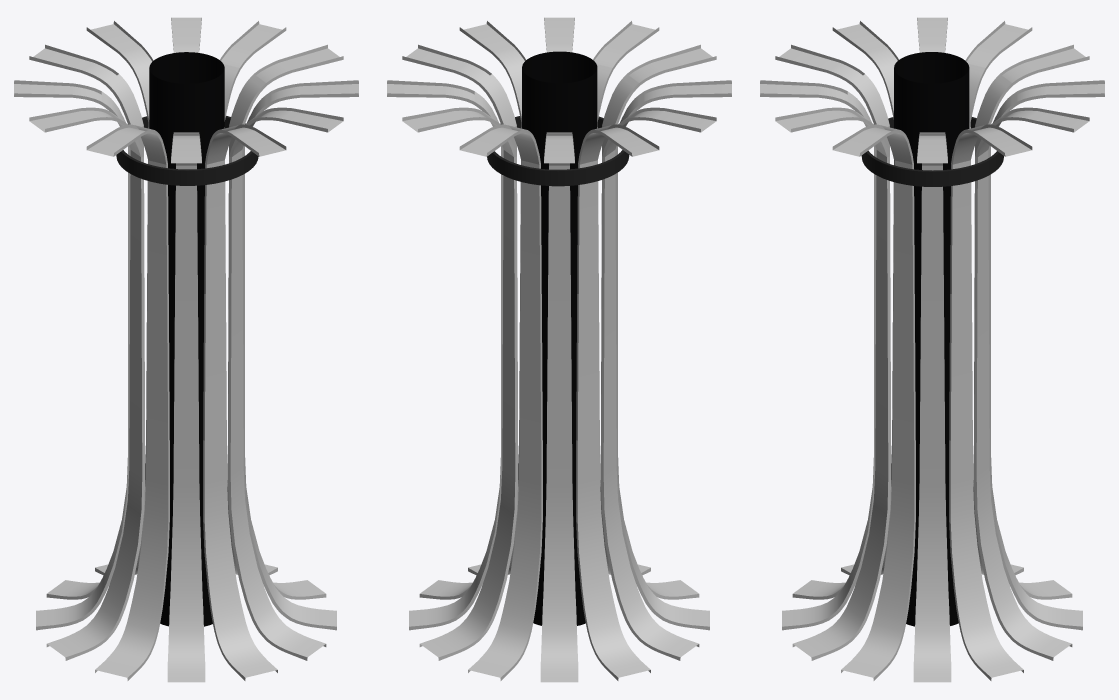
The model's file is MOb_Pillar_001.fbx.
3 views of the same model, side by side, from view 1: azimuth 30°, elevation 25°; view 2: azimuth 150°, elevation 25°; view 3: azimuth 270°, elevation 25° (orthographic).
Parts seen in each view (by area): view 1: MOb_Pillar_01_a, MOb_Pillar_01_b; view 2: MOb_Pillar_01_a, MOb_Pillar_01_b; view 3: MOb_Pillar_01_a, MOb_Pillar_01_b.
Boxes of the visible parts, x1,y1,x2,y2 form: MOb_Pillar_01_a: (14, 17, 358, 682); MOb_Pillar_01_b: (149, 52, 224, 626); MOb_Pillar_01_a: (387, 17, 731, 682); MOb_Pillar_01_b: (522, 51, 597, 625); MOb_Pillar_01_a: (760, 17, 1104, 682); MOb_Pillar_01_b: (894, 52, 969, 626).
Size of the model in its own units: 8.24 by 8.24 by 14.63.
